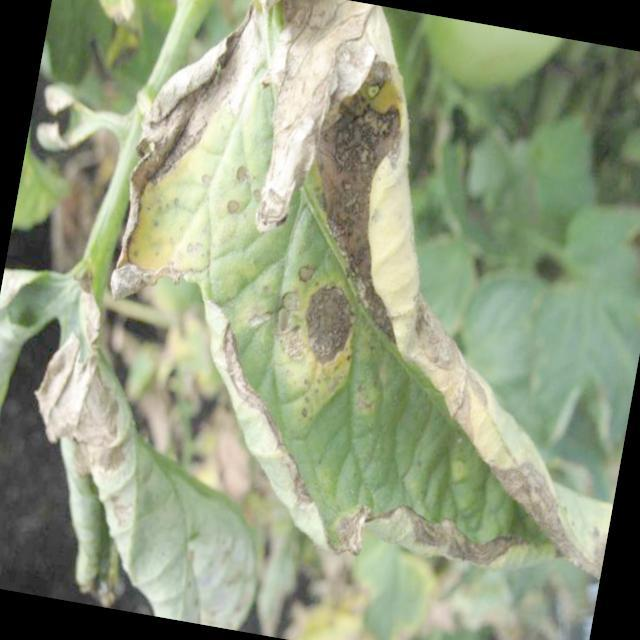Tomato Early blight leaf: (69, 0, 640, 602)
